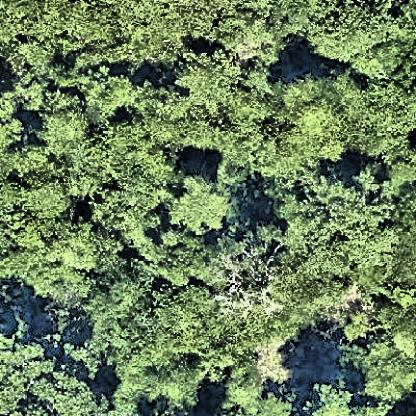tree-top: (287, 168, 388, 264), (5, 213, 106, 298), (268, 75, 354, 168), (294, 2, 406, 68), (3, 345, 80, 413), (214, 234, 279, 311), (168, 171, 234, 236), (89, 183, 158, 245), (351, 334, 412, 403), (355, 74, 413, 145), (20, 371, 110, 416), (24, 154, 79, 222), (35, 93, 96, 154), (178, 50, 238, 107), (103, 119, 167, 170), (89, 267, 144, 322), (154, 238, 204, 291), (89, 64, 133, 118), (302, 377, 361, 414), (229, 392, 308, 416), (1, 84, 23, 160)
